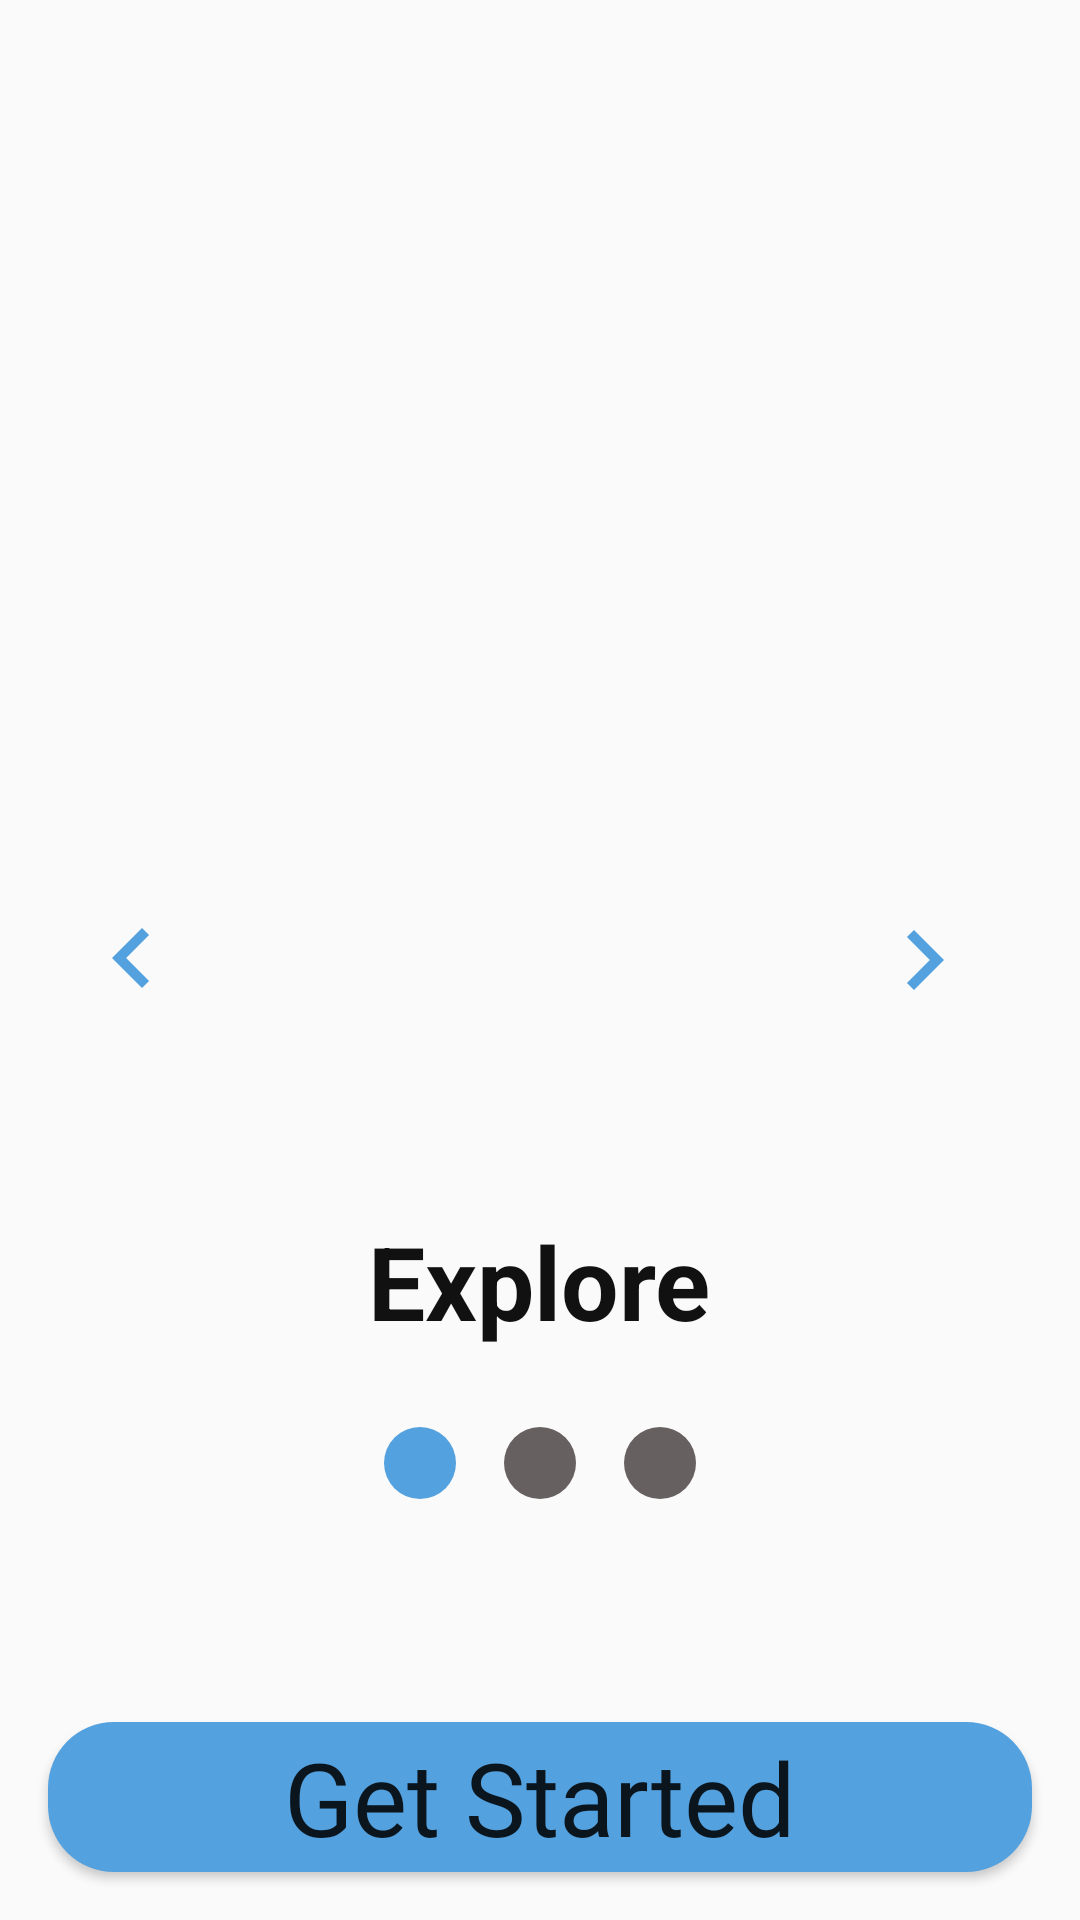

Named icons in this screenshot (1080px×1920px) and their bounding boxes, (x1,y1,x2,y2):
back: (112,928,149,988)
next: (907,930,944,990)
